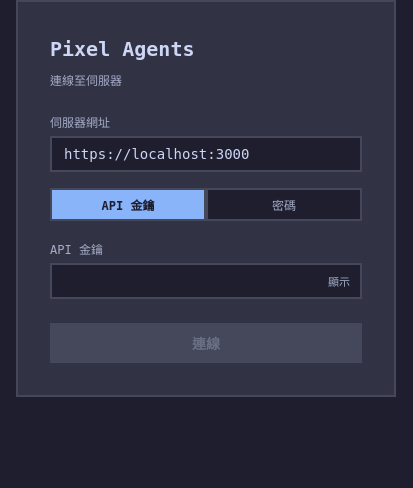
it: LoginView › 切換至密碼模式後顯示使用者名稱/密碼欄位
Click the radio button labelled "密碼": coordinates (284, 204) [206,188,362,221]
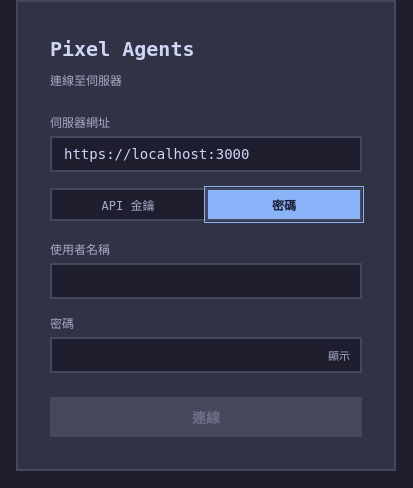
Expected: the field labelled "使用者名稱" is shown, [50,263,362,299]
Expected: the password field labelled "密碼" is shown, [50,337,362,373]
